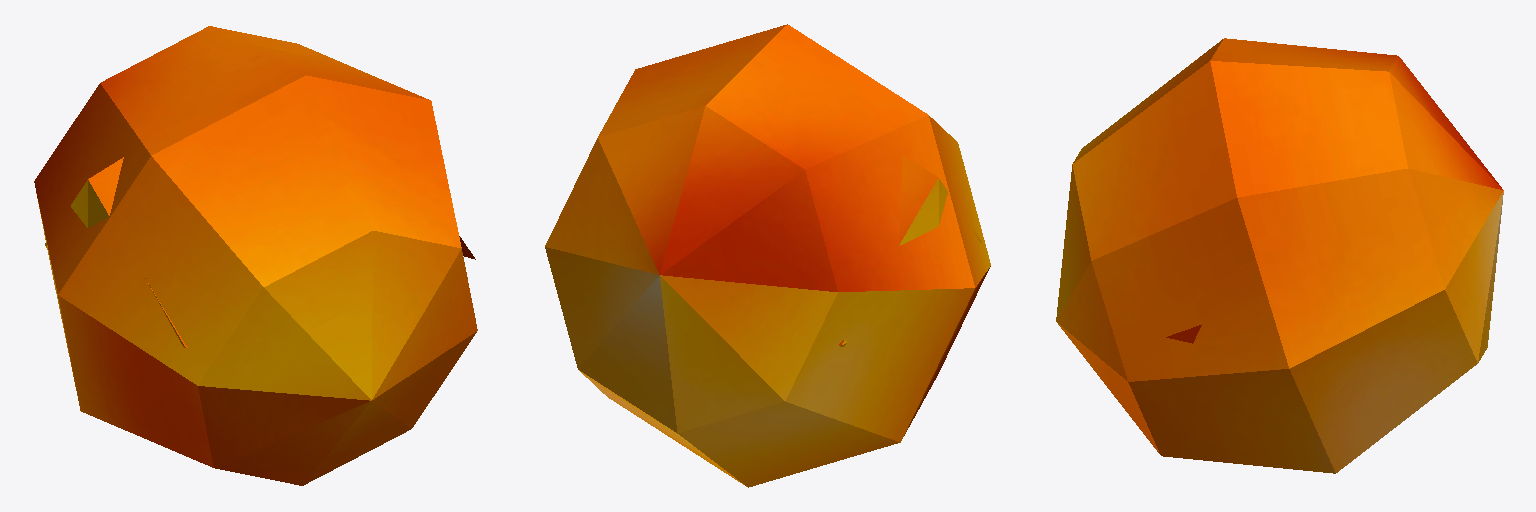
The picture shows the model from 3 angles: view 1: azimuth 30°, elevation 25°; view 2: azimuth 150°, elevation 25°; view 3: azimuth 270°, elevation 25°; orthographic projection.
Parts seen in each view (by area): view 1: cerberus_Sphere_8; view 2: cerberus_Sphere_8; view 3: cerberus_Sphere_8.
Part boxes in pixels (bbox=[...]): cerberus_Sphere_8: bbox=[34, 26, 477, 485]; cerberus_Sphere_8: bbox=[545, 24, 990, 487]; cerberus_Sphere_8: bbox=[1056, 38, 1503, 473].
Bounding box in the file's own units: 771 × 736 × 738.
1 materials, 1 textured.